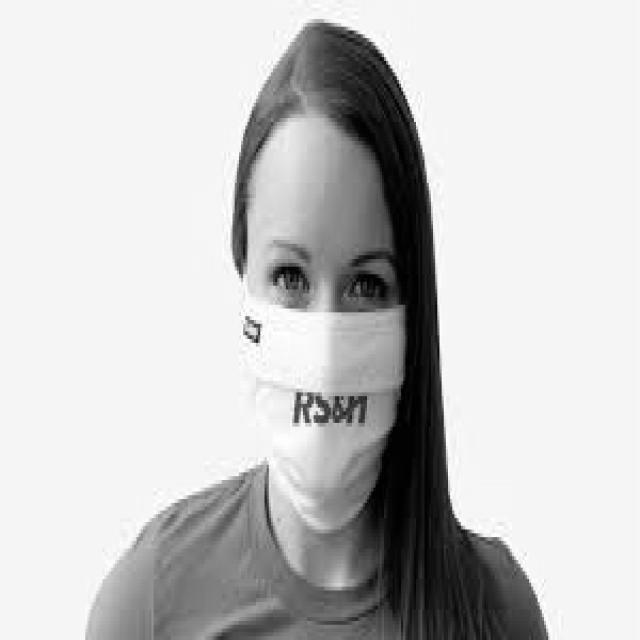fake: (240, 297, 408, 537)
real: (240, 115, 408, 534)
